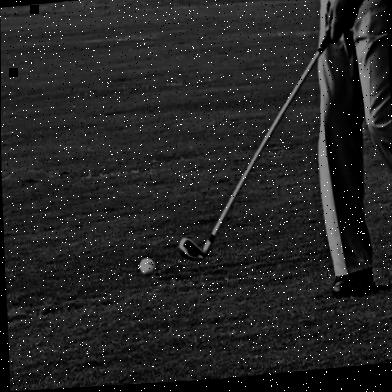ClubHead: (138, 257, 155, 279)
GolfBall: (175, 235, 211, 265)
